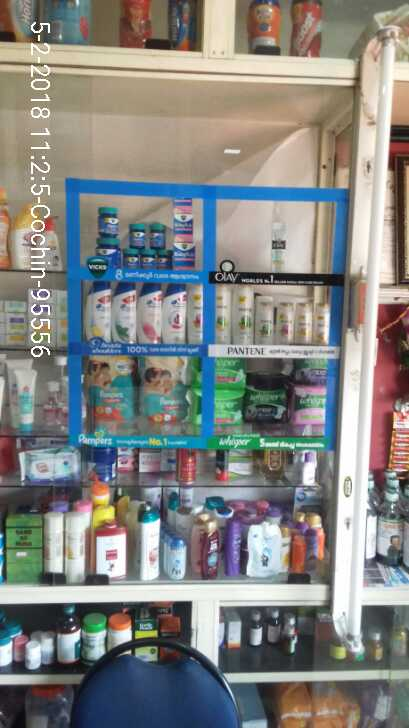vicks: (96, 193, 196, 271)
